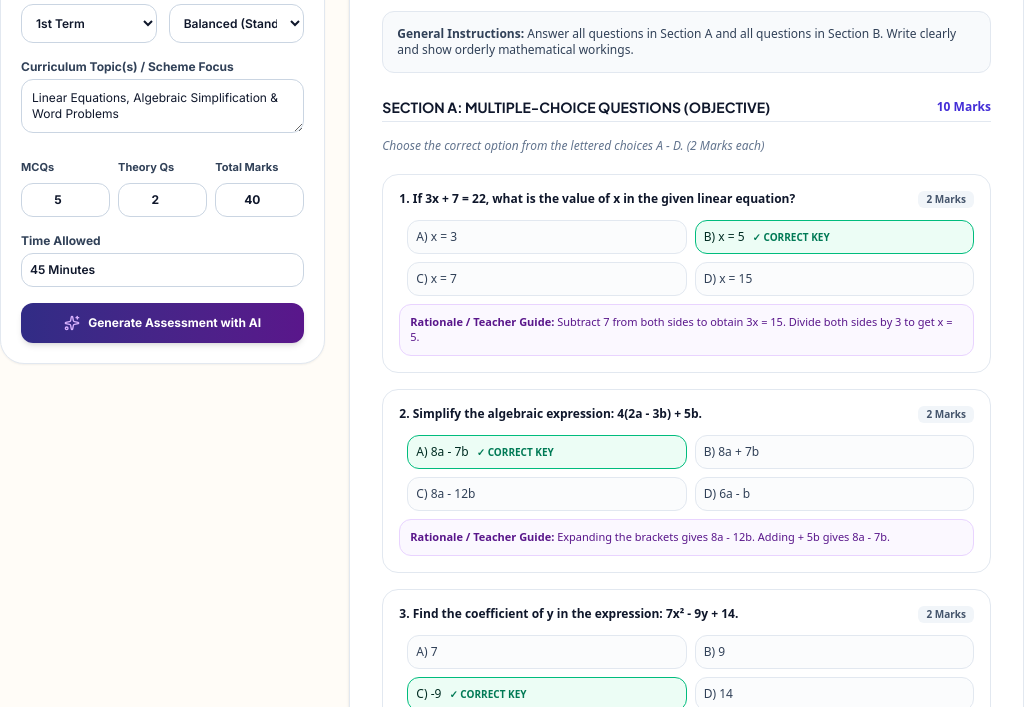
Scenario: AssessmentStudio generated question identity › renders and rerenders distinct questions that reuse a display number without duplicate-key warnings
(page scrolled)
Step 1. Click the button "Generate Assessment with AI" → coordinates (163, 323), box top-left (21, 303), bottom-right (304, 343)
(page scrolled)
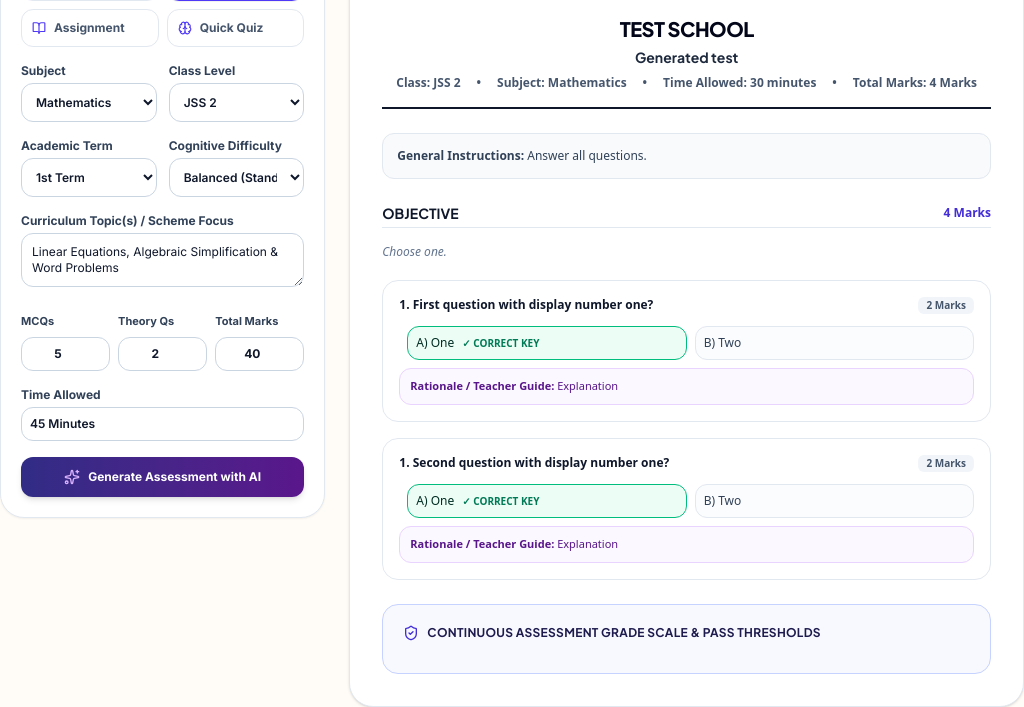
Check: the text "1. First question with display number one?" is shown, box top-left (399, 297), bottom-right (653, 313)
Check: the text "1. Second question with display number one?" is shown, box top-left (399, 455), bottom-right (669, 471)
Check: the text "1. First question with display number one?" is shown 2 times, box top-left (399, 297), bottom-right (653, 313); top-left (399, 455), bottom-right (669, 471)
Step 2. Click the button "Generate Assessment with AI" → coordinates (163, 477), box top-left (21, 457), bottom-right (304, 497)
(page scrolled)
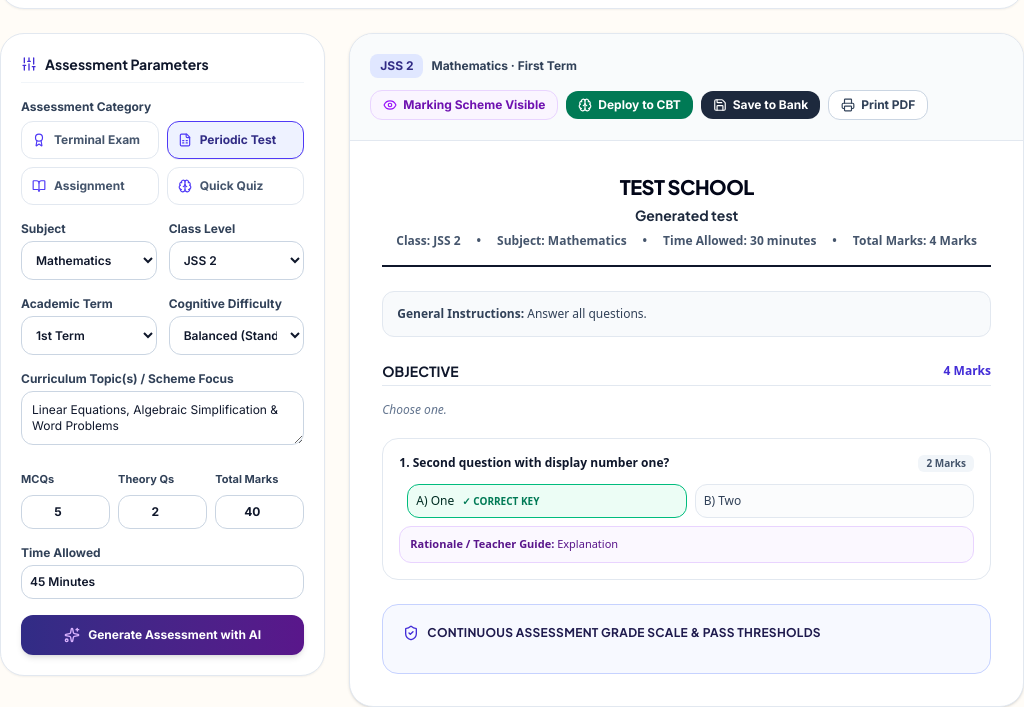
Check: the text "1. Second question with display number one?" is shown once, box top-left (399, 455), bottom-right (669, 471)
Check: the text "1. Second question with display number one?" is shown, box top-left (399, 455), bottom-right (669, 471)
Check: the text "First question with display number one" is gone
